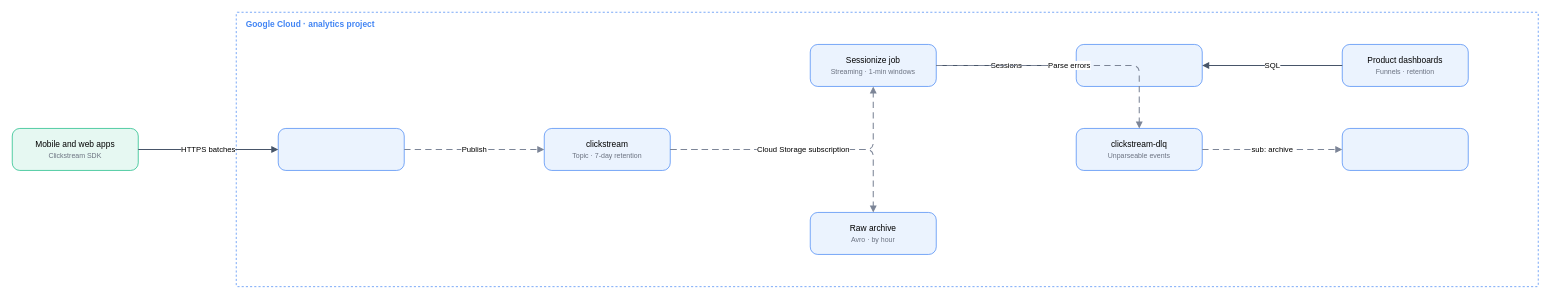
Image size: 1551x299. Some labels were removed from this diagram. The shapes that lost their labels are listed below. From the top down, each one's box as (x1, y1, x2, y2) in pixels, then its label:
(1076, 44, 1202, 86): Analytics dataset Storage Write API
(278, 128, 404, 170): Event collector Validate · batch publish
(1342, 128, 1468, 170): Dead letters Inspect · replay
